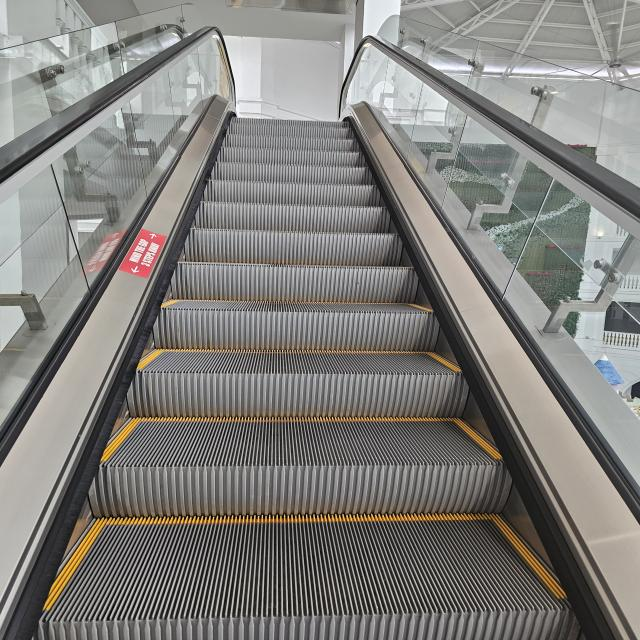escalator: (47, 159, 573, 640)
